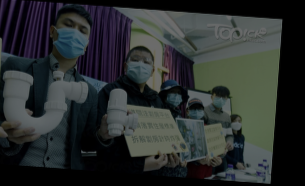with_mask: (54, 15, 90, 58), (125, 52, 154, 83), (166, 89, 184, 108), (212, 92, 228, 109), (188, 105, 204, 119), (231, 117, 242, 132)
